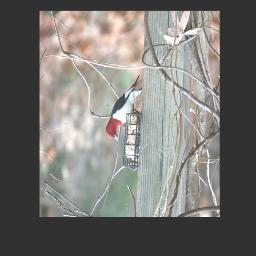Woodpecker: (102, 72, 146, 146)
